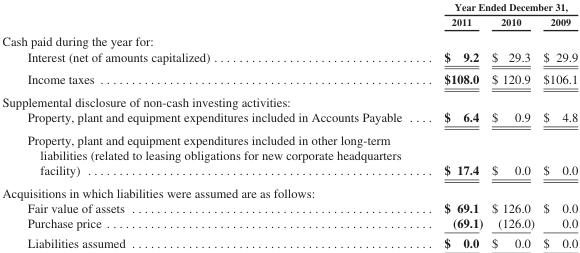table: (1, 0, 577, 250)
table column: (1, 0, 422, 250), (422, 0, 486, 250), (486, 0, 538, 250), (538, 0, 577, 250)
table column header: (1, 0, 577, 30)
table projected row header: (1, 90, 577, 109), (1, 30, 577, 48), (1, 181, 577, 199)
table row: (1, 128, 577, 181), (1, 67, 577, 90), (1, 48, 577, 67), (1, 90, 577, 109), (1, 109, 577, 128), (1, 30, 577, 48), (1, 181, 577, 199), (1, 232, 577, 250), (1, 215, 577, 232), (1, 14, 577, 30), (1, 199, 577, 215), (1, 0, 577, 14)
table spanning cell: (422, 0, 577, 14)
